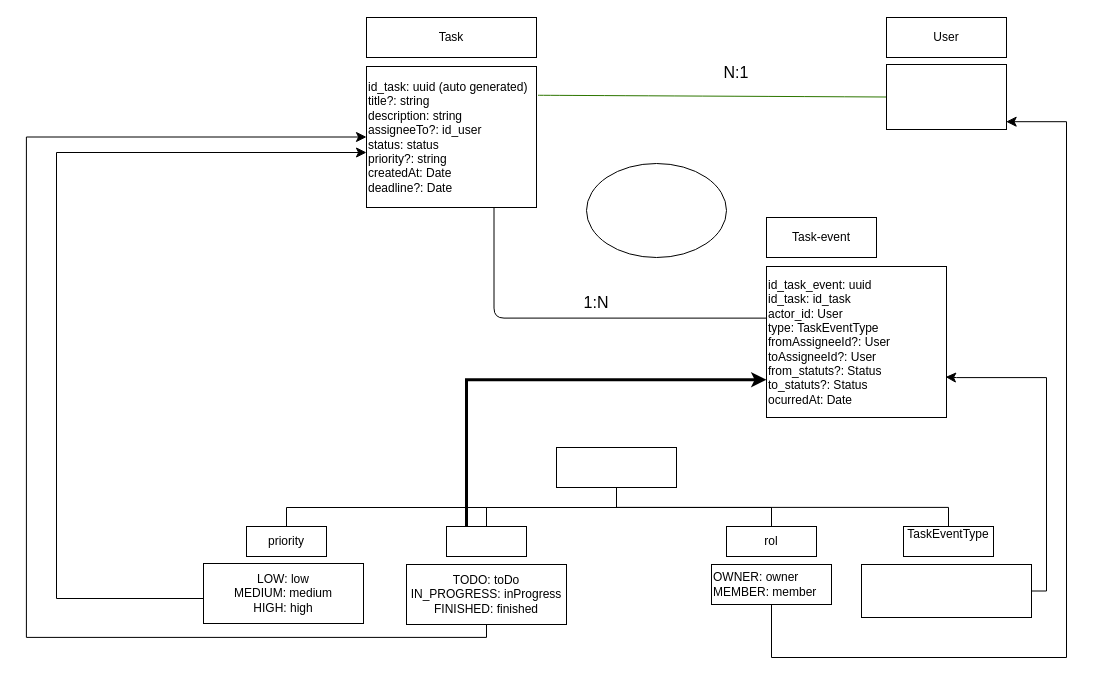
Some shapes in this 1095 by 685 pixel diagram are drawn without their labels. The shapes that lost their labels are listed below. From the top down, each one's box as (x1, y1, x2, y2) in pixels, then its label:
(886, 64, 1006, 130): id_user: uuid (auto) name: string email: email UNIQUE rol: rol*
(586, 162, 726, 258): trigger: Cuando cambia Task se actualiza se crea un task event
(556, 446, 676, 488): Enum
(446, 526, 526, 556): status
(860, 564, 1032, 618): CREATED STATUS_CHANGED ASSIGNEE_CHANGED
